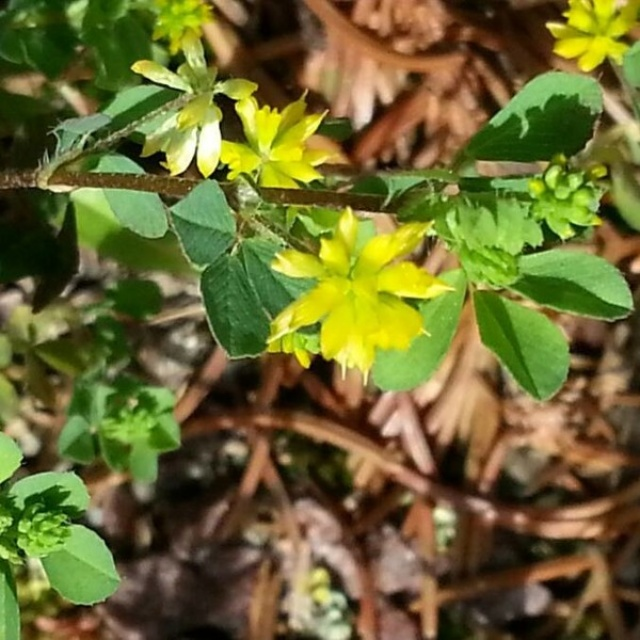obstacle: (91, 80, 630, 397)
